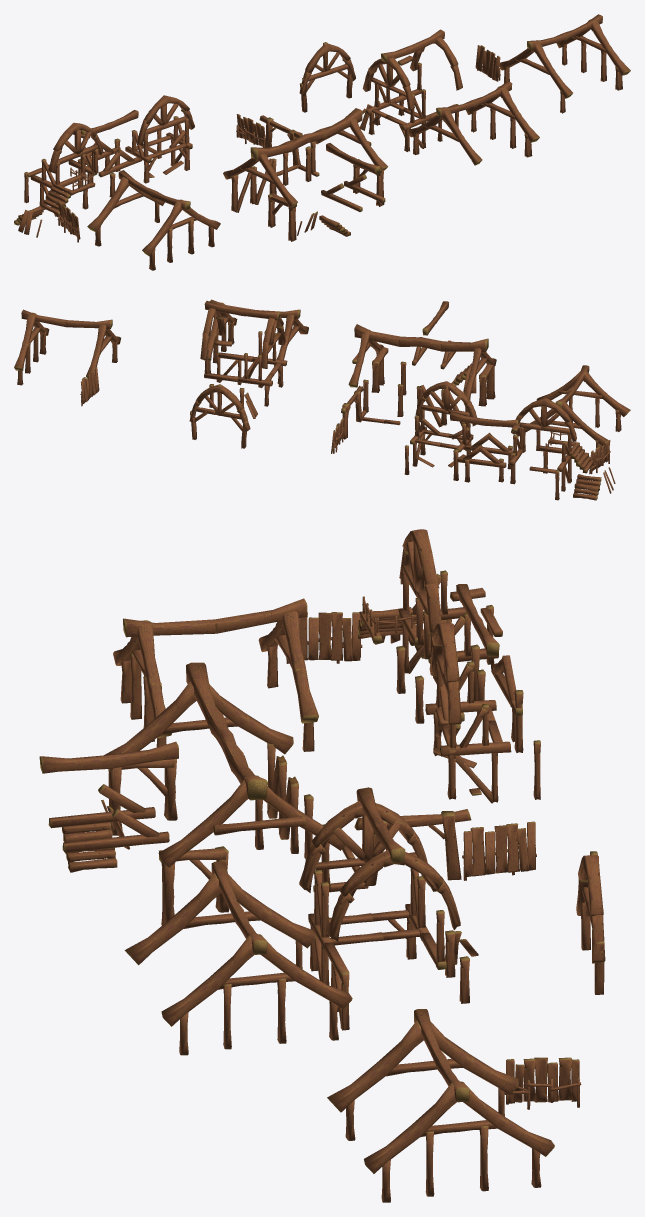
The model's file is WoodBlock2.FBX.
3 views of the same model, one above another, from view 1: azimuth 30°, elevation 25°; view 2: azimuth 150°, elevation 25°; view 3: azimuth 270°, elevation 25° (orthographic). The views are drawn at different scales.
Parts seen in each view (by area): view 1: WoodMaterialBlock2; view 2: WoodMaterialBlock2; view 3: WoodMaterialBlock2.
Part boxes in pixels (x1,y1,x2,y2): WoodMaterialBlock2: (14, 14, 630, 270); WoodMaterialBlock2: (14, 299, 630, 500); WoodMaterialBlock2: (39, 529, 605, 1202).
Size of the model in its own units: 152 by 24.33 by 64.52.
